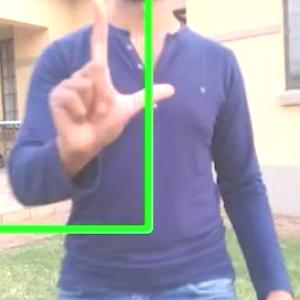land_hand: (41, 0, 181, 163)
